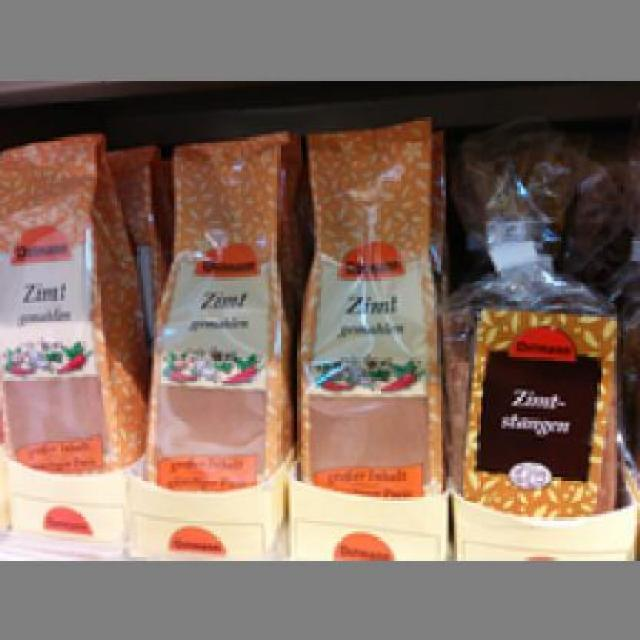Spices: (300, 114, 440, 500), (146, 132, 286, 488), (451, 225, 620, 518), (2, 132, 138, 472)
